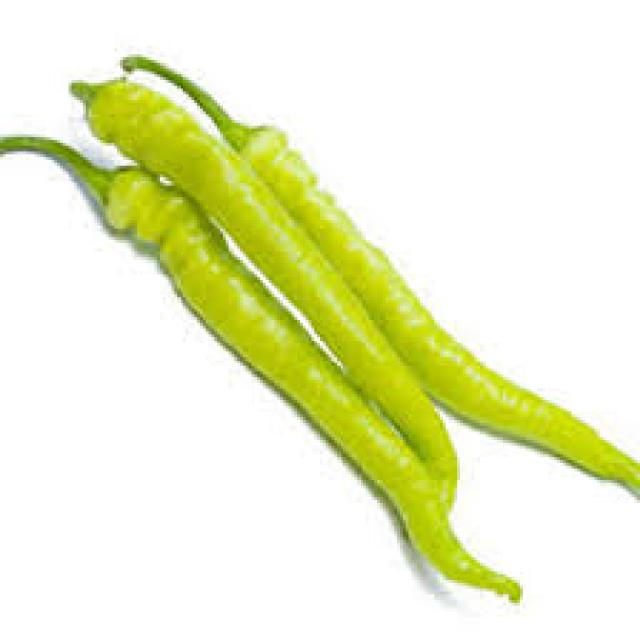green chilli: (0, 139, 519, 603), (68, 79, 462, 506)
